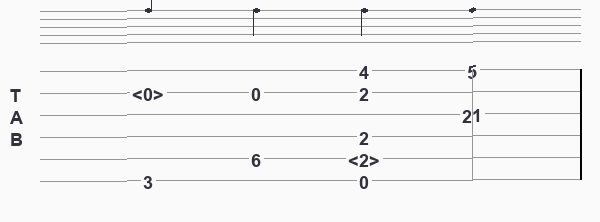0: (251, 84, 265, 101), (359, 172, 373, 189)
2: (359, 128, 373, 145), (359, 84, 373, 101)
21: (462, 106, 486, 123)
3: (143, 172, 157, 189)
4: (359, 62, 373, 79)
5: (467, 62, 481, 79)
6: (251, 150, 265, 167)
harmonic: (132, 84, 168, 101), (348, 150, 384, 167)
